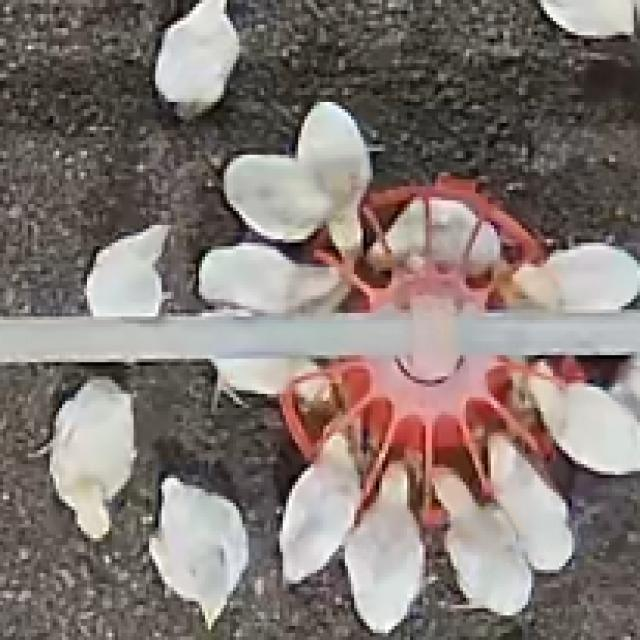broiler: (149, 475, 245, 626), (50, 376, 134, 538), (438, 471, 531, 612), (345, 461, 423, 629), (295, 102, 370, 253), (488, 436, 572, 570), (280, 436, 357, 580), (528, 373, 637, 471), (155, 0, 239, 116), (370, 197, 497, 271), (199, 243, 339, 309), (224, 155, 326, 239), (510, 243, 637, 309), (84, 225, 168, 316), (211, 359, 326, 404), (537, 0, 637, 35)
pipe: (0, 313, 410, 362), (457, 309, 637, 352)
rice: (280, 243, 547, 520), (469, 197, 537, 250), (413, 186, 447, 246), (438, 179, 478, 197)
